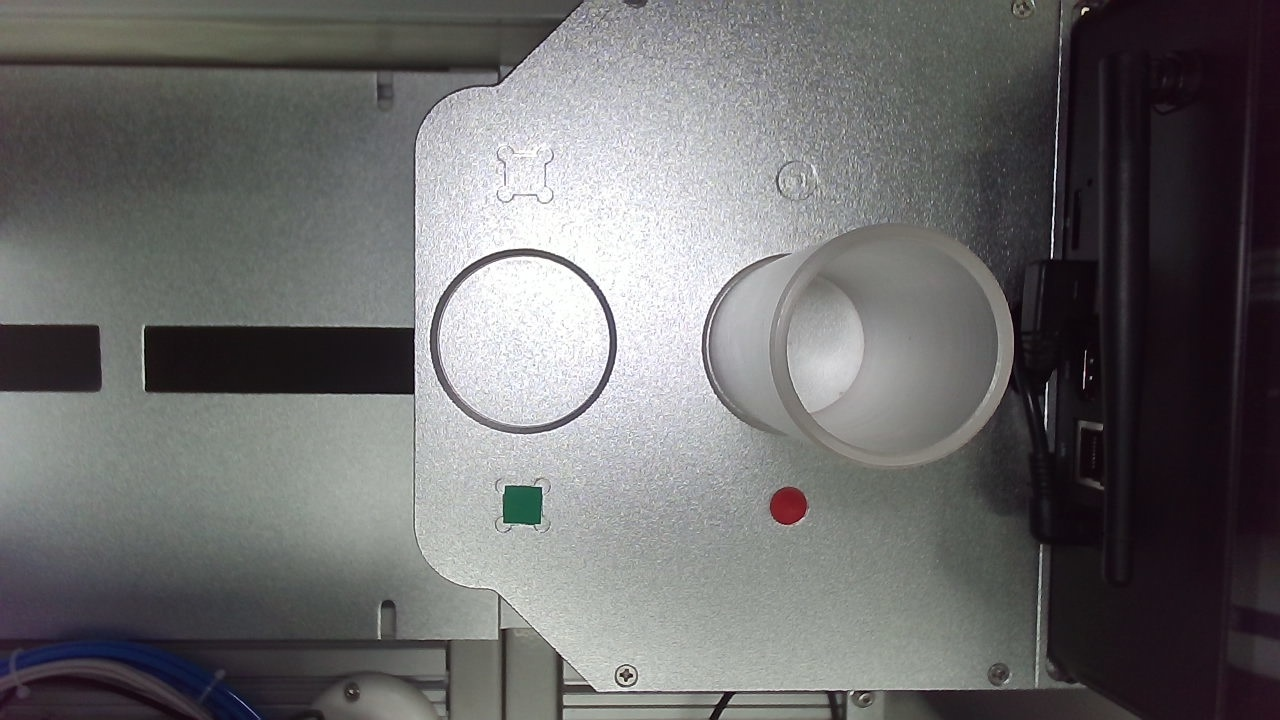XLabel: (853, 229, 887, 262)
YLabel: (635, 230, 670, 265)
none: (792, 296, 954, 459)
transparenexcept: (574, 261, 785, 472)
